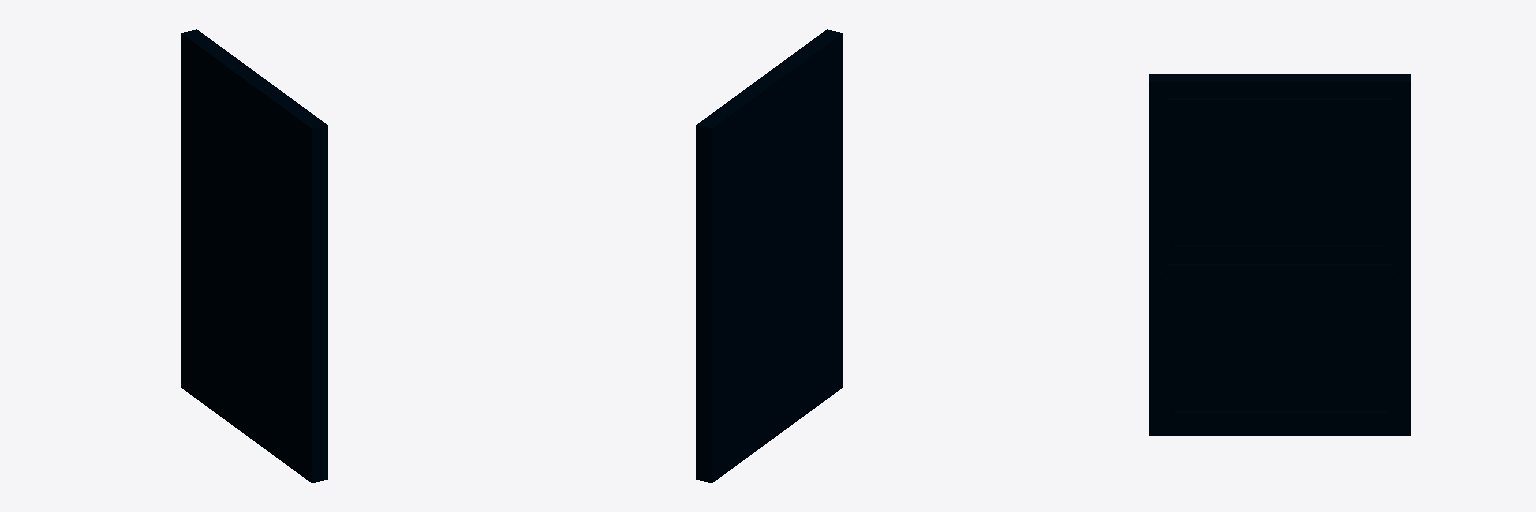
File: door.obj
3 views of the same model, side by side, from view 1: azimuth 30°, elevation 25°; view 2: azimuth 150°, elevation 25°; view 3: azimuth 270°, elevation 25° (orthographic).
Parts seen in each view (by area): view 1: Door; view 2: Door; view 3: Door.
Boxes of the visible parts, x1,y1,x2,y2 form: Door: [181, 29, 327, 482]; Door: [696, 29, 842, 482]; Door: [1149, 74, 1410, 435].
Bounding box in the file's own units: 0.067 × 1.21 × 0.8064.